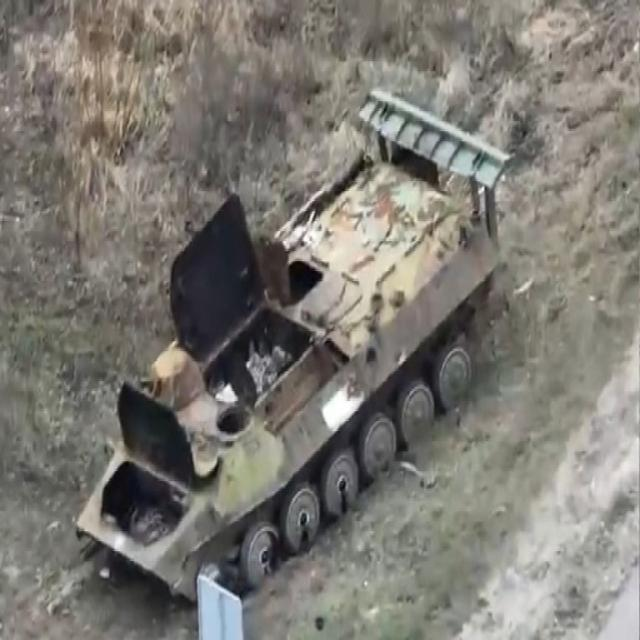APC-IFV: (61, 64, 515, 618)
